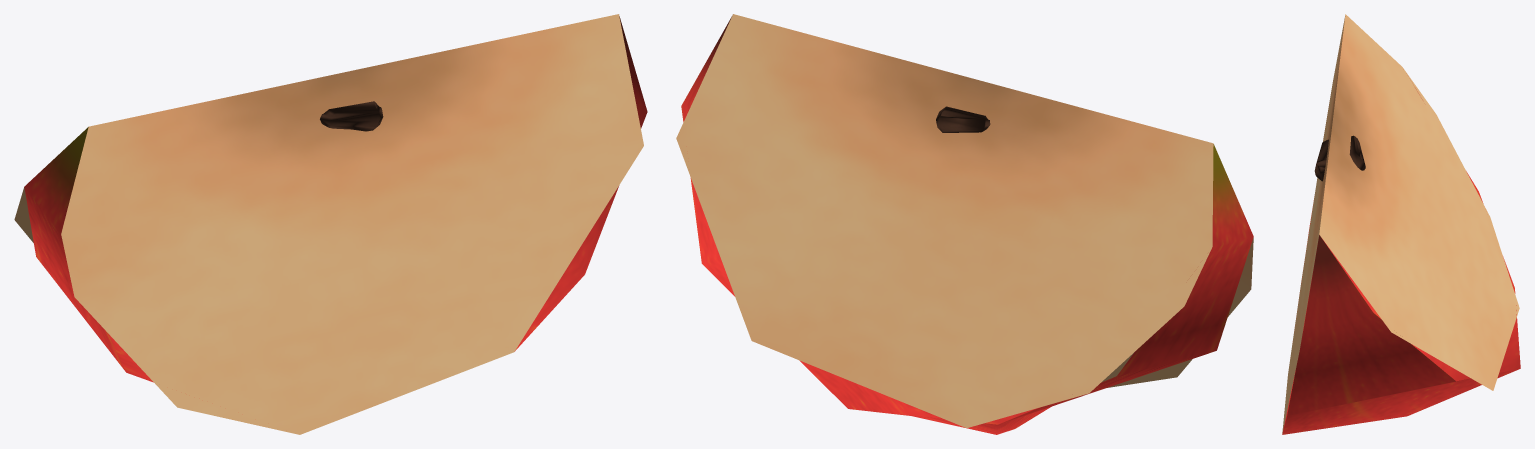
File: apple.glb
3 renders of one model, left to right at view 1: azimuth 30°, elevation 25°; view 2: azimuth 150°, elevation 25°; view 3: azimuth 270°, elevation 25°, orthographic. The views are drawn at different scales.
Parts seen in each view (by area): view 1: Object_10; view 2: Object_10; view 3: Object_10.
Boxes of the visible parts, left/top/right/bottom form: Object_10: left=14, top=14, right=647, bottom=434; Object_10: left=676, top=14, right=1253, bottom=434; Object_10: left=1282, top=14, right=1520, bottom=434.
Size of the model in its own units: 0.1787 by 0.0978 by 0.0741.
1 material, 1 textured.
